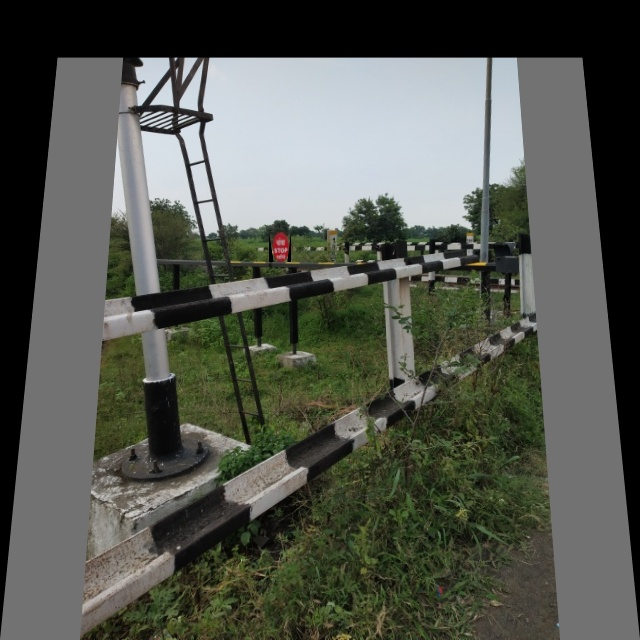Stop: (269, 232, 291, 262)
